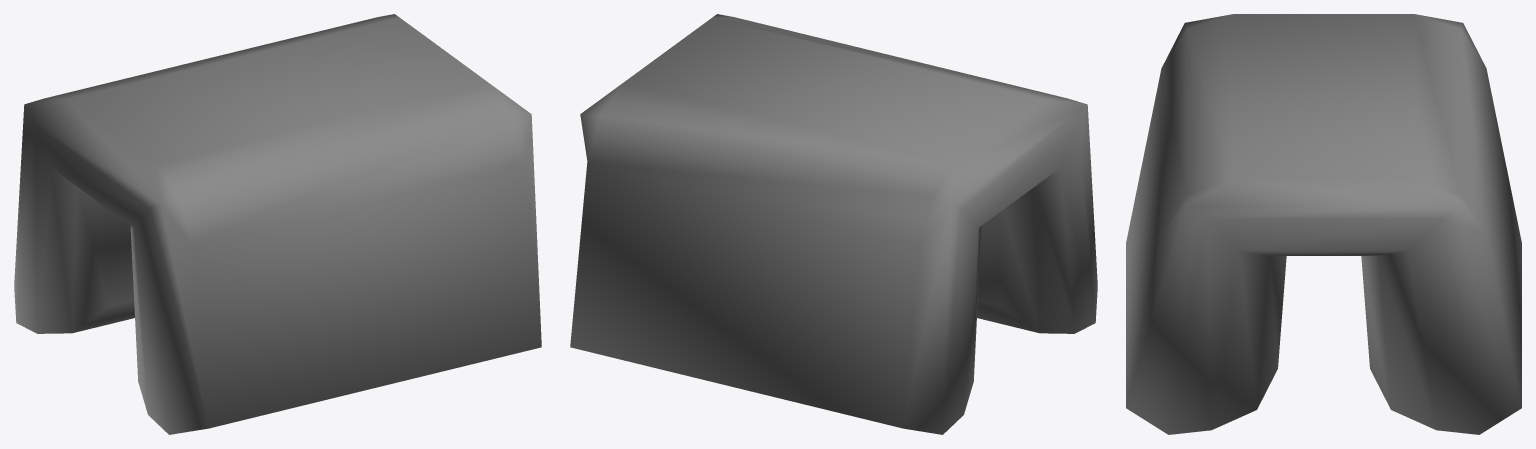
The model's file is Weighing clothes 1.fbx.
3 renders of one model, left to right at view 1: azimuth 30°, elevation 25°; view 2: azimuth 150°, elevation 25°; view 3: azimuth 270°, elevation 25°, orthographic.
Parts seen in each view (by area): view 1: Weighing clothes 1; view 2: Weighing clothes 1; view 3: Weighing clothes 1.
Boxes of the visible parts, <box> form: Weighing clothes 1: <box>14,14,541,434</box>; Weighing clothes 1: <box>570,14,1097,434</box>; Weighing clothes 1: <box>1126,14,1521,434</box>.
Bounding box in the file's own units: 67.43 × 42.15 × 61.36.
